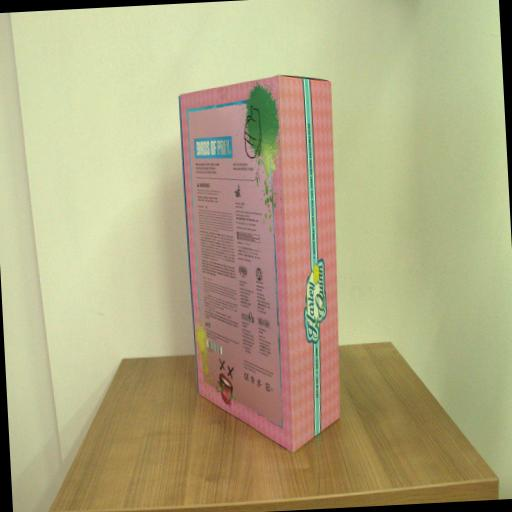Harley: (177, 72, 353, 457)
